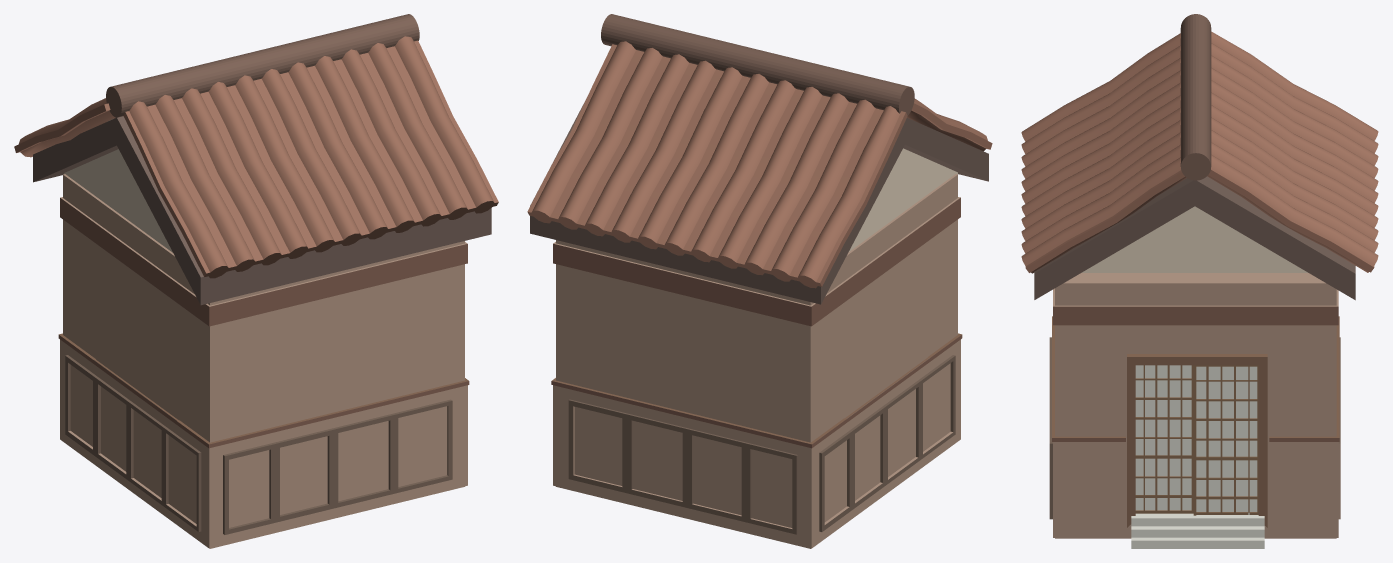
File: Building_1_Graveyard.fbx
The picture shows the model from 3 angles, left to right: view 1: azimuth 30°, elevation 25°; view 2: azimuth 150°, elevation 25°; view 3: azimuth 270°, elevation 25°; orthographic projection. The views are drawn at different scales.
Parts seen in each view (by area): view 1: Cube, Circle.001, Cube.002, Plane.002, Cube.005, Cylinder, Cube.004, Plane.004, Cube.001; view 2: Cube, Circle.001, Cube.002, Cube.006, Plane.002, Cylinder, Cube.004, Plane.004, Cube.001; view 3: Circle.001, Cube, Plane, Plane.002, Plane.004, Cube.002, Plane.003, Cube.001, Cylinder, Plane.005.
Part boxes in pixels (left/top/right/bottom): Cube: left=60, top=174, right=467, bottom=548; Circle.001: left=14, top=36, right=498, bottom=278; Cube.002: left=58, top=198, right=469, bottom=534; Plane.002: left=33, top=116, right=491, bottom=305; Cube.005: left=229, top=406, right=446, bottom=527; Cylinder: left=106, top=14, right=419, bottom=117; Cube.004: left=70, top=365, right=196, bottom=523; Plane.004: left=64, top=118, right=172, bottom=252; Cube.001: left=59, top=333, right=468, bottom=444; Cube: left=553, top=174, right=960, bottom=548; Circle.001: left=527, top=41, right=992, bottom=288; Cube.002: left=551, top=197, right=962, bottom=534; Cube.006: left=574, top=407, right=792, bottom=527; Plane.002: left=530, top=103, right=988, bottom=304; Cylinder: left=601, top=14, right=914, bottom=115; Cube.004: left=824, top=363, right=950, bottom=522; Plane.004: left=849, top=148, right=957, bottom=251; Cube.001: left=552, top=333, right=961, bottom=444; Circle.001: left=1021, top=31, right=1378, bottom=273; Cube: left=1053, top=273, right=1340, bottom=538; Plane: left=1131, top=365, right=1257, bottom=540; Plane.002: left=1034, top=176, right=1355, bottom=300; Plane.004: left=1081, top=206, right=1307, bottom=272; Cube.002: left=1049, top=306, right=1340, bottom=519; Plane.003: left=1135, top=365, right=1258, bottom=515; Cube.001: left=1052, top=316, right=1339, bottom=527; Cylinder: left=1180, top=14, right=1211, bottom=180; Plane.005: left=1131, top=513, right=1264, bottom=548.
Bounding box in the file's own units: 4.86 × 6.19 × 5.07.
